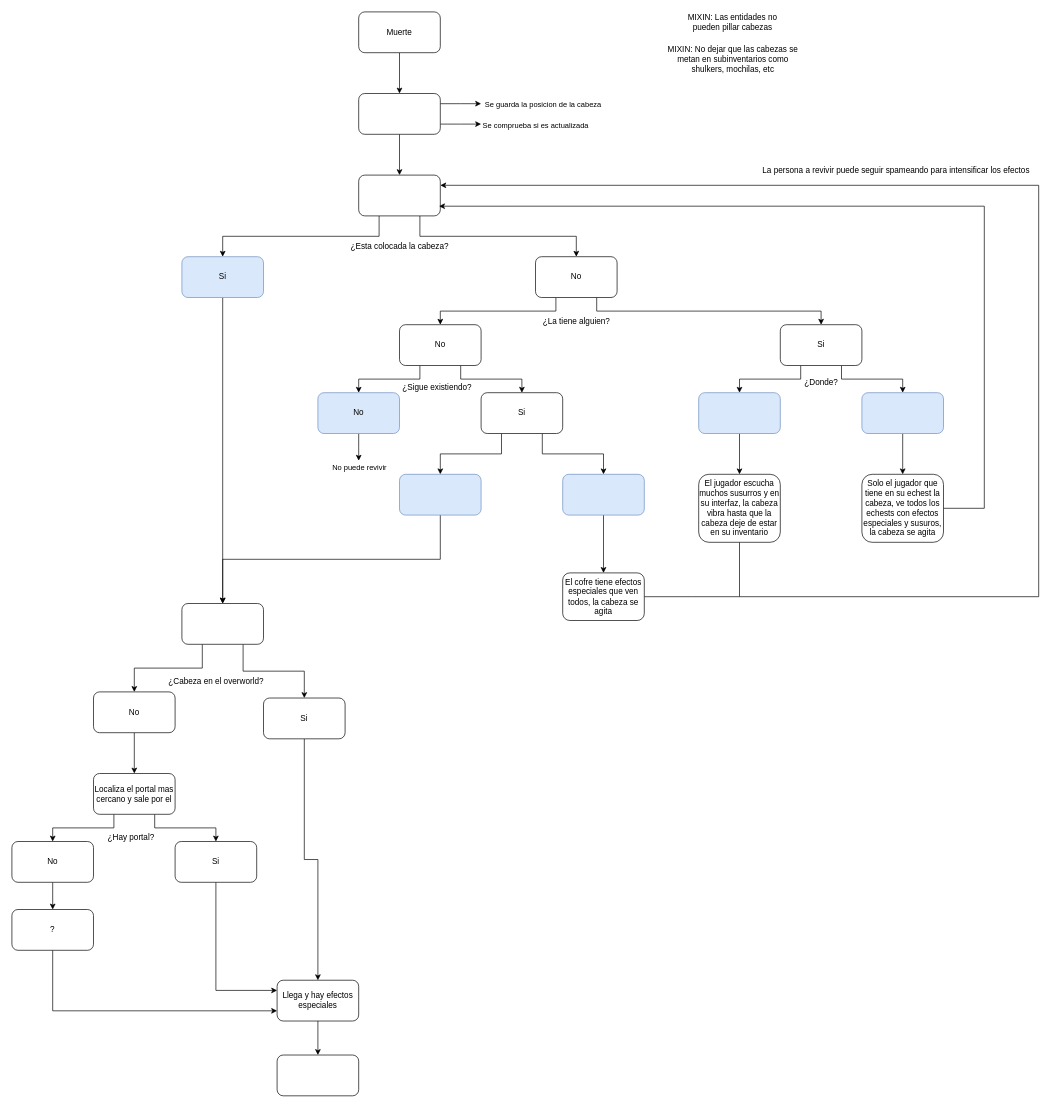
Image size: 1056x1108. Some labels were removed from this diagram. The centre of each missing label's shape, as x and y in pixels:
"EChest" belongs at (902,413).
"El fantasma activa un totem" belongs at (399,195).
"En un cofre" belongs at (603,494).
"Inventario" belongs at (739,413).
"Item dropeado" belongs at (440,494).
"La cabeza se mueve hacia el totem" belongs at (222,623).
"La persona revive y el totem se destuye" belongs at (317,1075).
"Se coloca cabeza en el suelo" belongs at (399,113).
